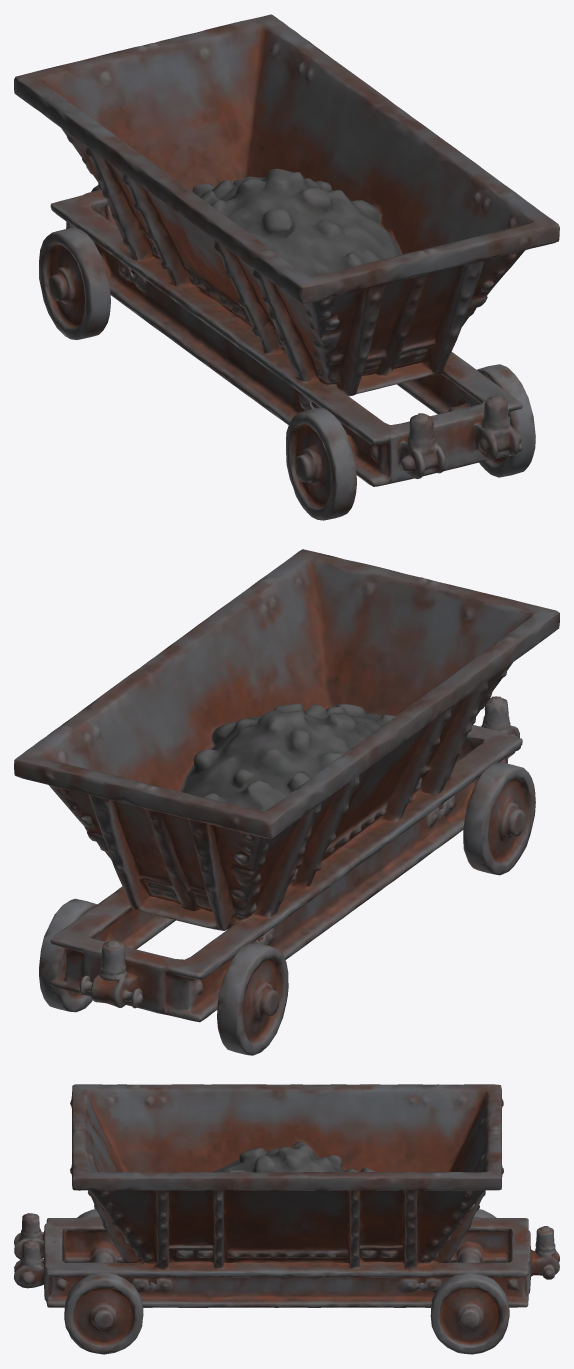
The model's file is vagoneta.glb.
The picture shows the model from 3 angles, top to bottom: view 1: azimuth 30°, elevation 25°; view 2: azimuth 150°, elevation 25°; view 3: azimuth 270°, elevation 25°; orthographic projection. The views are drawn at different scales.
Parts seen in each view (by area): view 1: geometry_0; view 2: geometry_0; view 3: geometry_0.
Part boxes in pixels (x1,y1,x2,y2): geometry_0: [14, 14, 559, 520]; geometry_0: [14, 549, 559, 1055]; geometry_0: [14, 1084, 559, 1354].
Bounding box in the file's own units: 0.4082 × 0.3862 × 1.
Materials: 1 (1 with a texture image).
